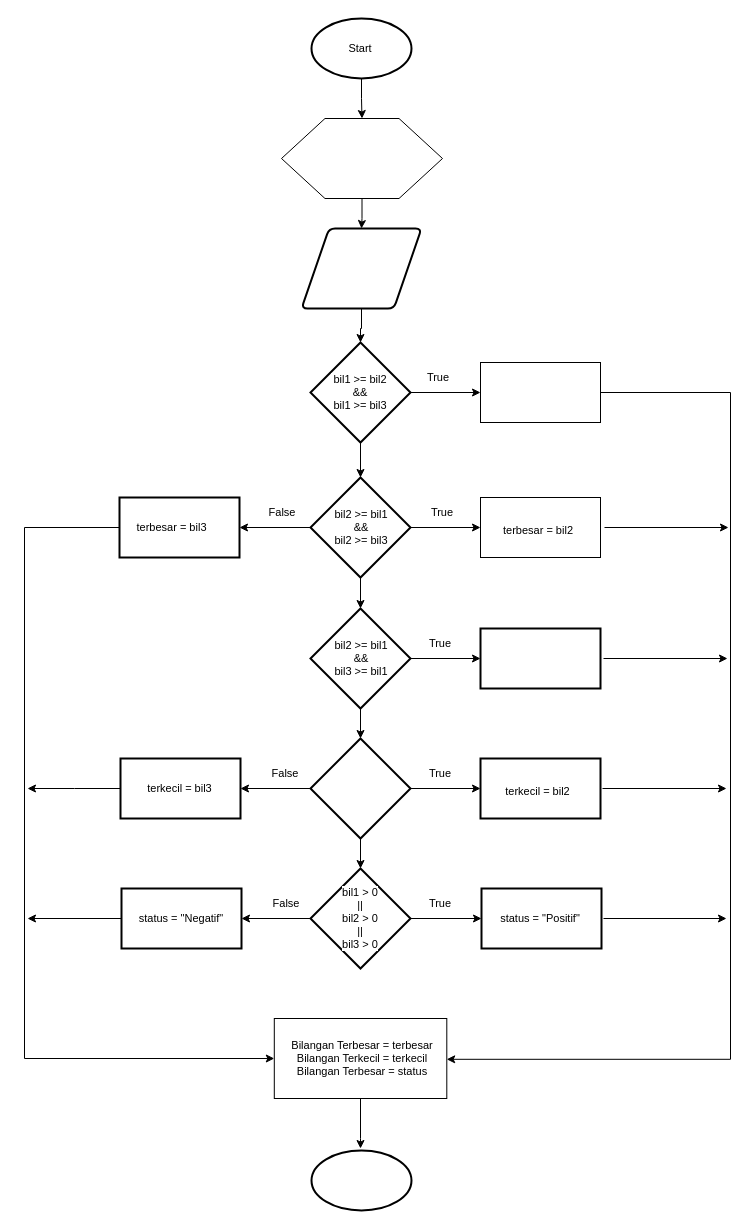
This 756x1228 diagram has some shape labels left out. The shapes that lost their labels are listed below. From the top down, each one's box as (x1, y1, x2, y2) in pixels, then its label:
(280, 118, 442, 198): bil1, bil2, bil3, terbesar, terkecil : Int status : string
(300, 227, 422, 309): Input bil1 Input bil2 Input bil3
(480, 362, 600, 422): terbesar = bil1
(479, 627, 601, 689): terkecil = bil1
(309, 737, 411, 839): bil1 >= bil2 && bil3 >= bil2
(310, 1149, 412, 1211): end
